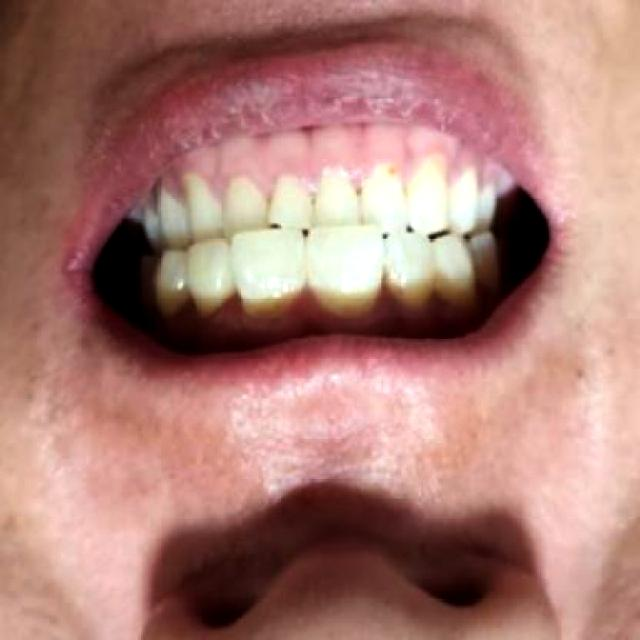Plaque: (386, 159, 406, 175)
